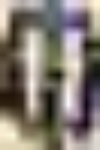F_RUS: (0, 0, 99, 149)
